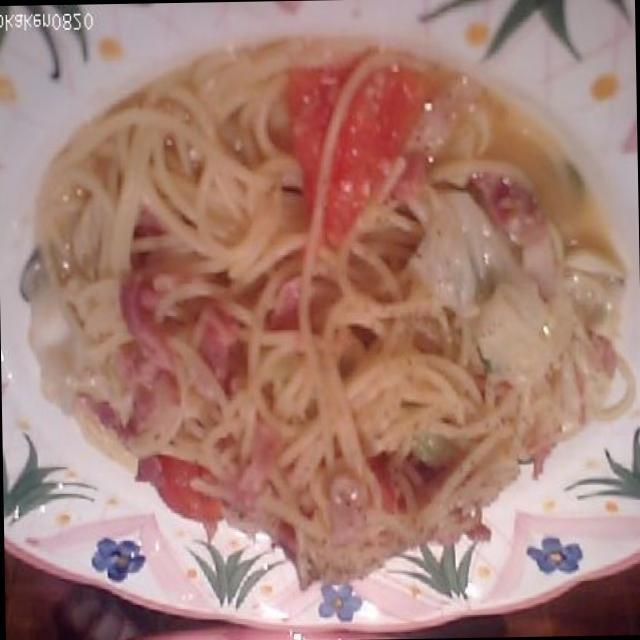Pasta: (17, 38, 634, 604)
